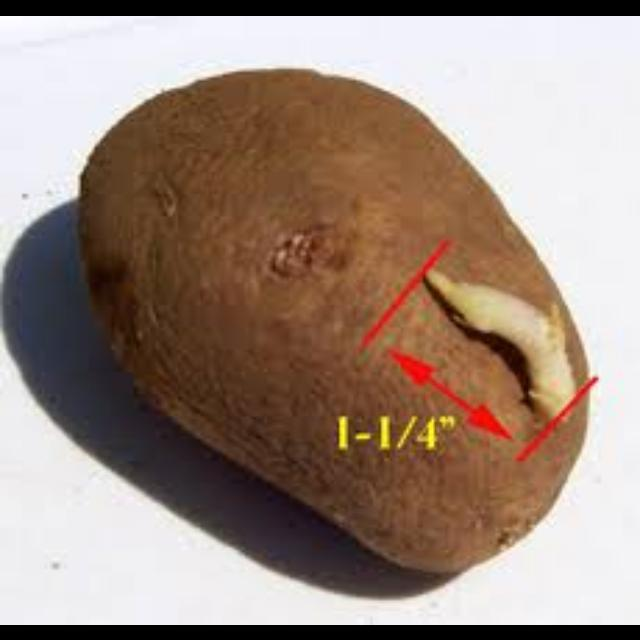Sprouted potato: (85, 66, 602, 570)
